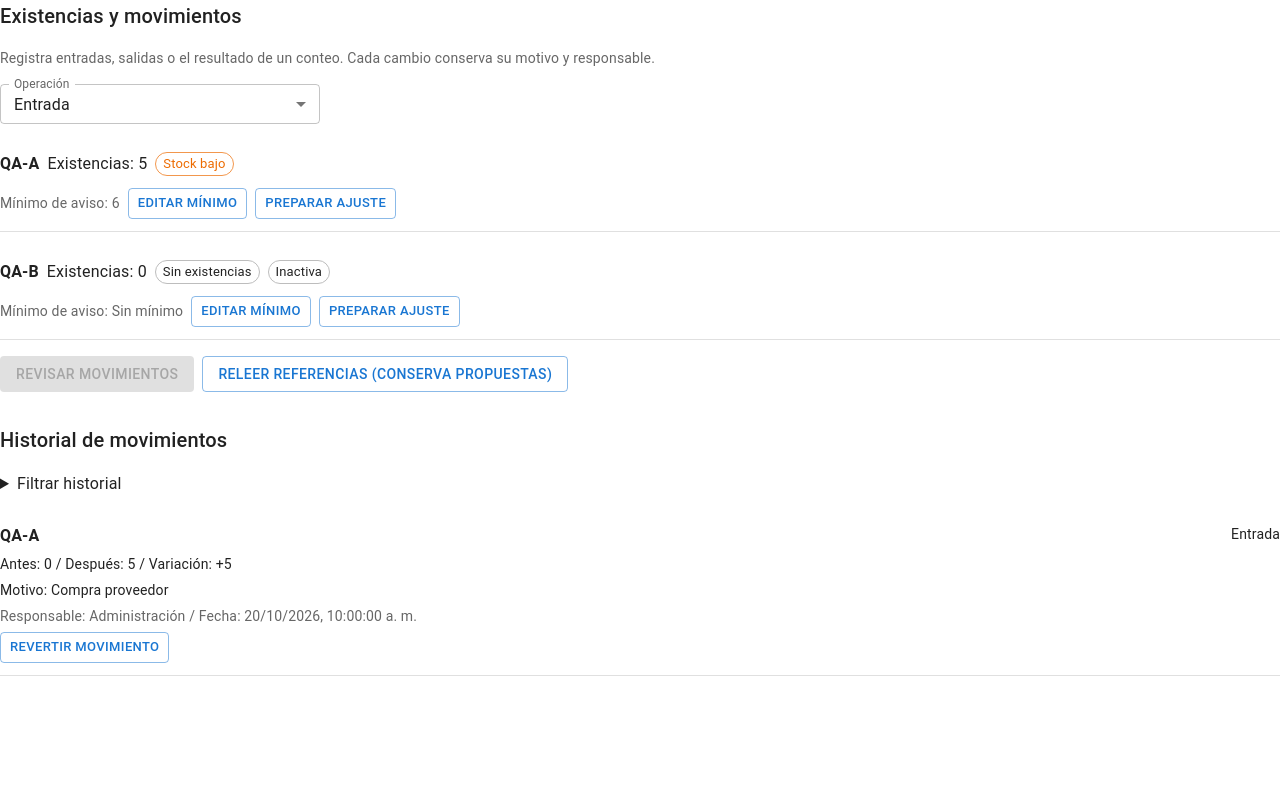
Test: shows distinct zero/low states and submits reviewed revision-bound movements
Expected: the text "Stock bajo" is shown, [163,156,226,171]
Expected: the text "Sin existencias" is shown, [156,262,259,282]
Click the button "Preparar ajuste" below "Stock bajo".
click(326, 203)  # box [255,188,396,219]
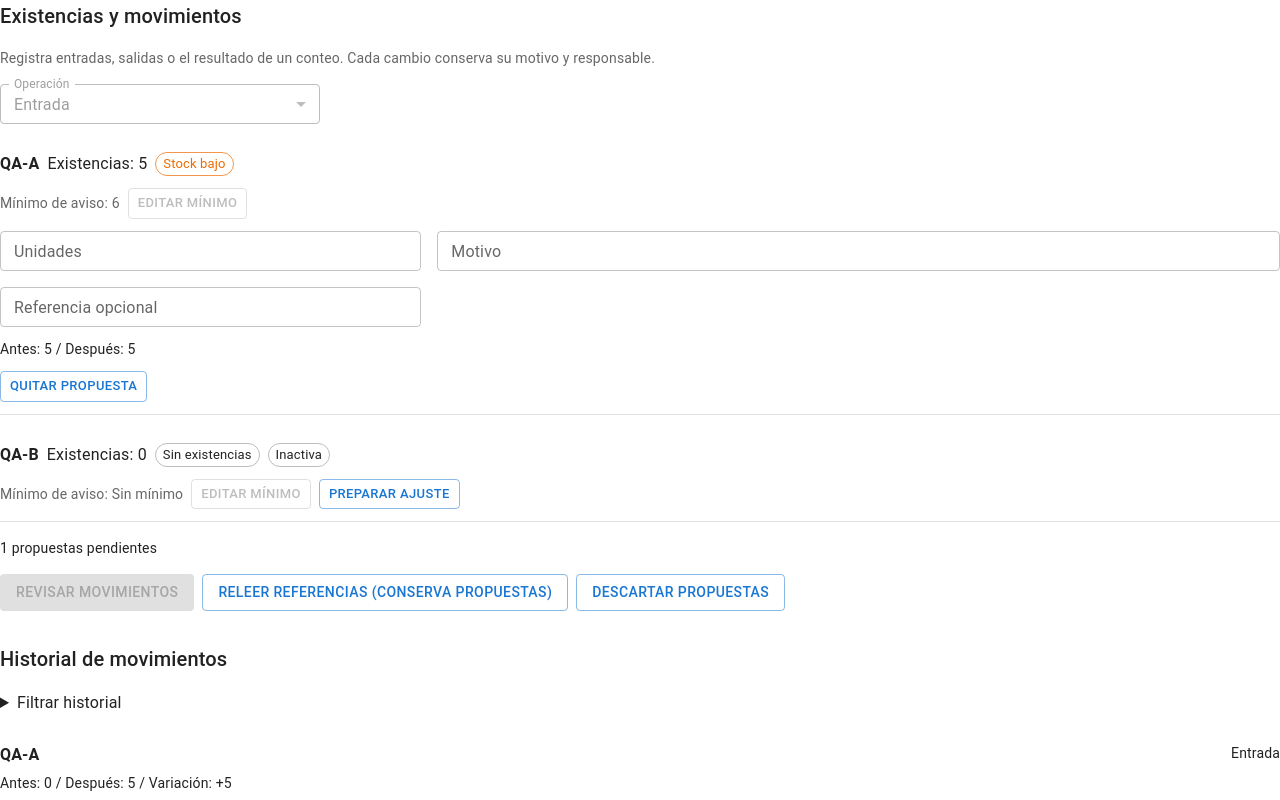
Type "2" into the field labelled "Unidades".
click(211, 251); type("2")  # box [0,231,421,271]
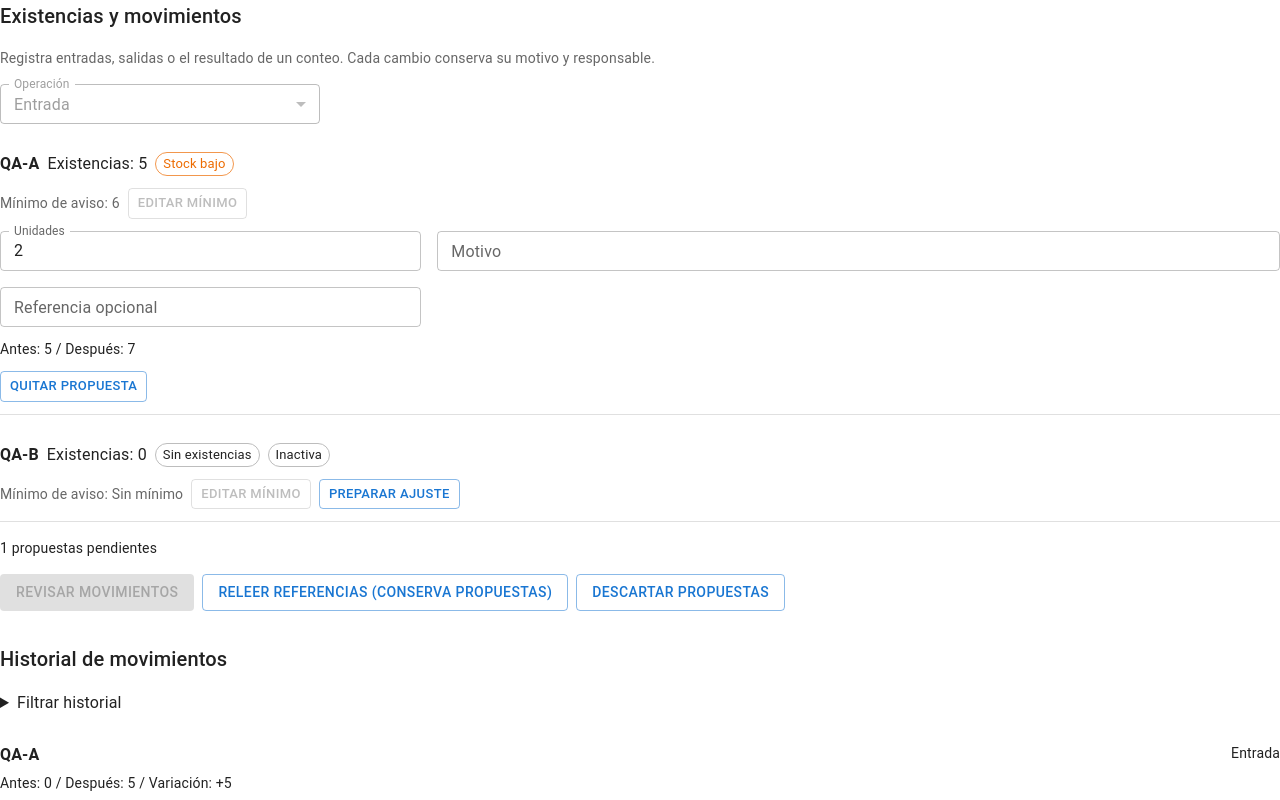
Type "Entrega proveedor" into the field labelled "Motivo".
click(859, 251); type("Entrega proveedor")  # box [437,231,1279,271]
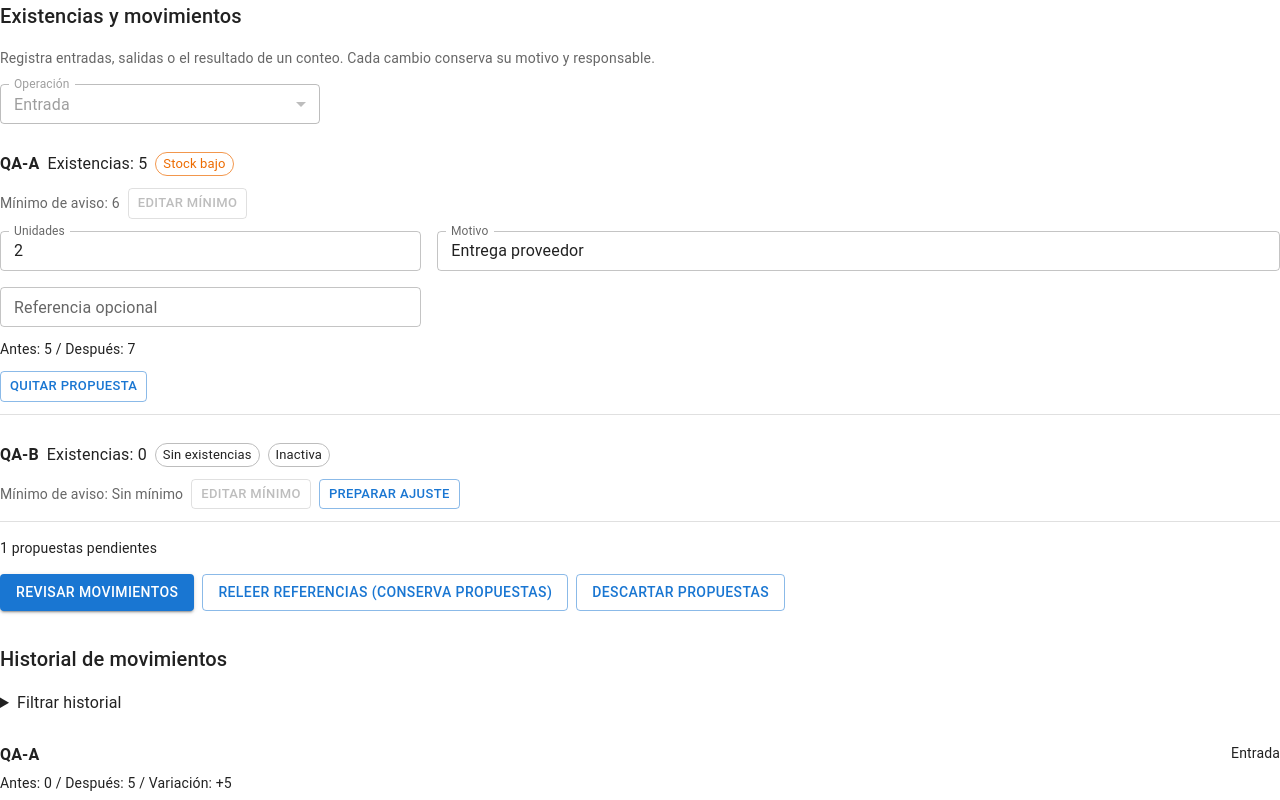
Click the button "Revisar movimientos".
click(97, 593)  # box [0,574,194,611]
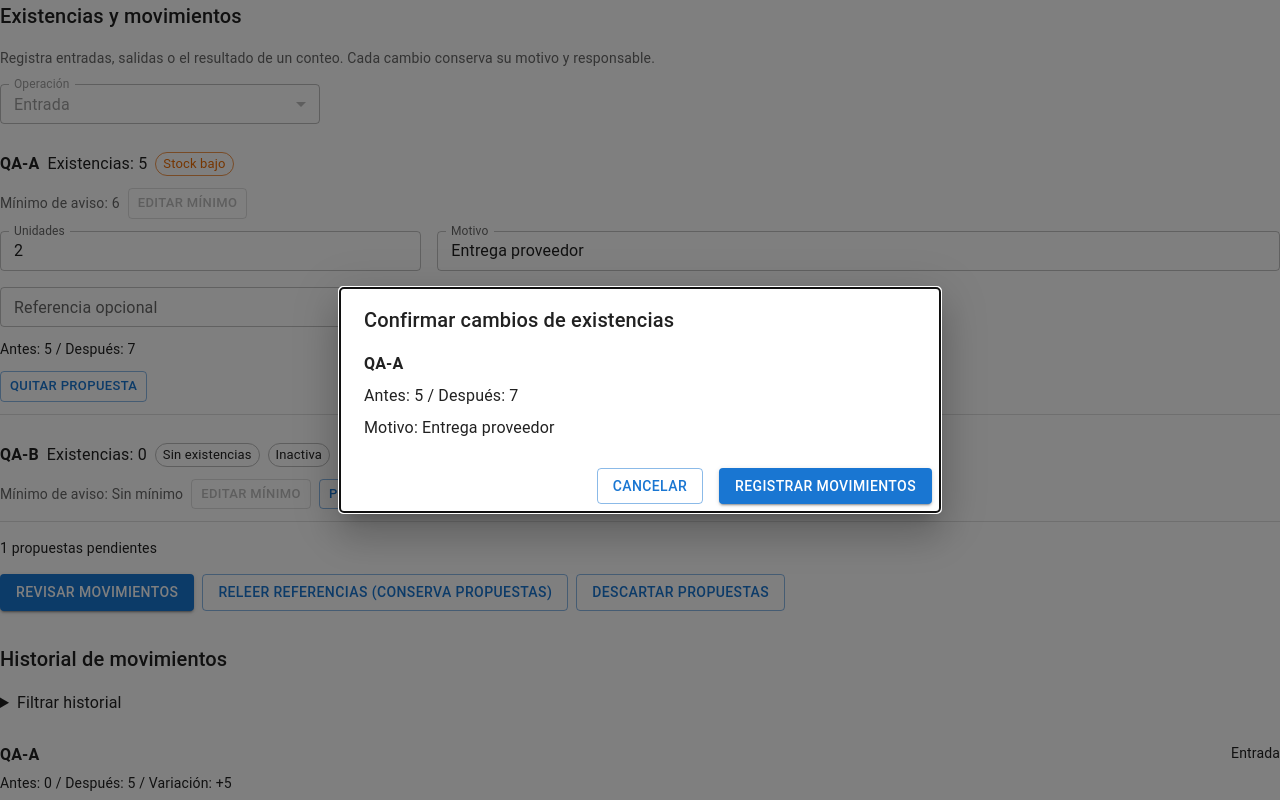
Click the button "Registrar movimientos".
click(826, 486)  # box [719,468,932,504]
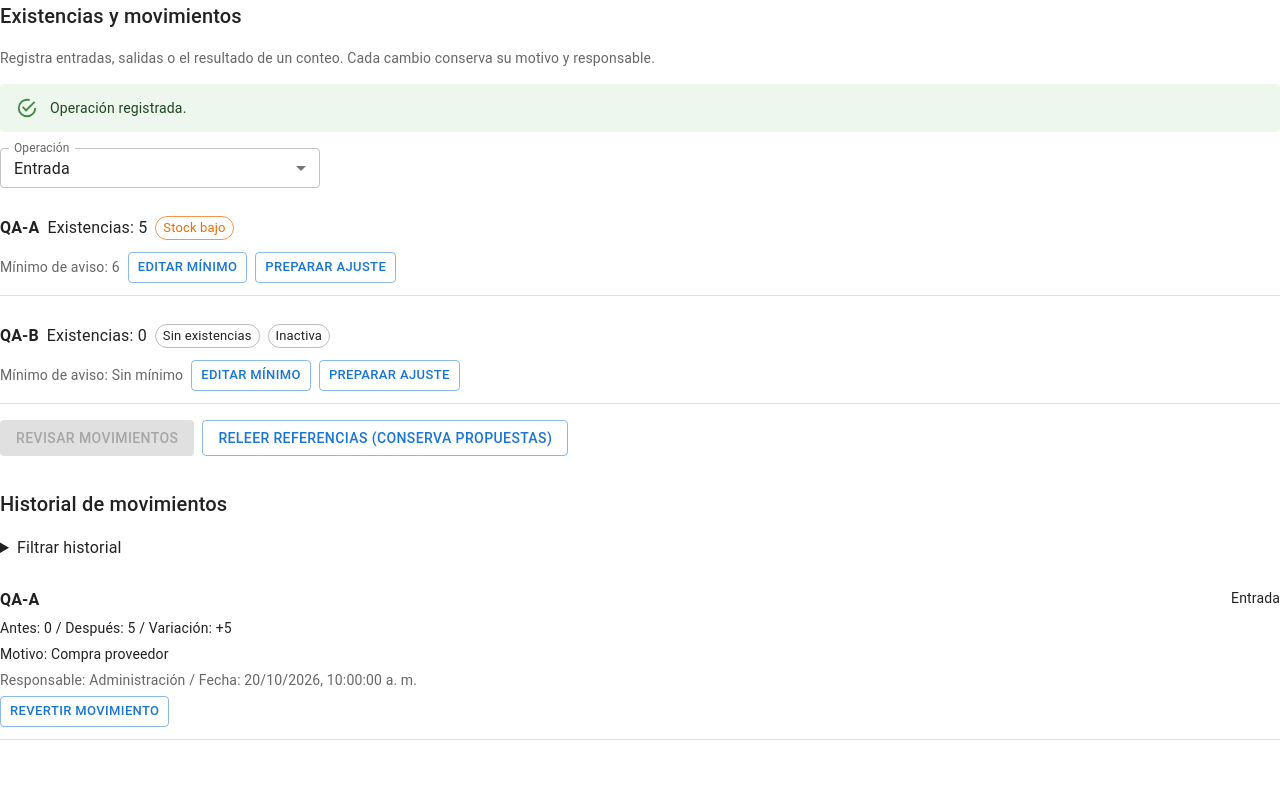
Now the text "Operación registrada." is shown, box [50,100,186,116]
